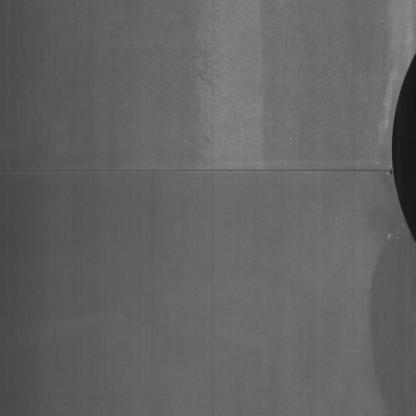crescent_gap: (382, 39, 416, 256)
welding_line: (1, 154, 390, 191)
